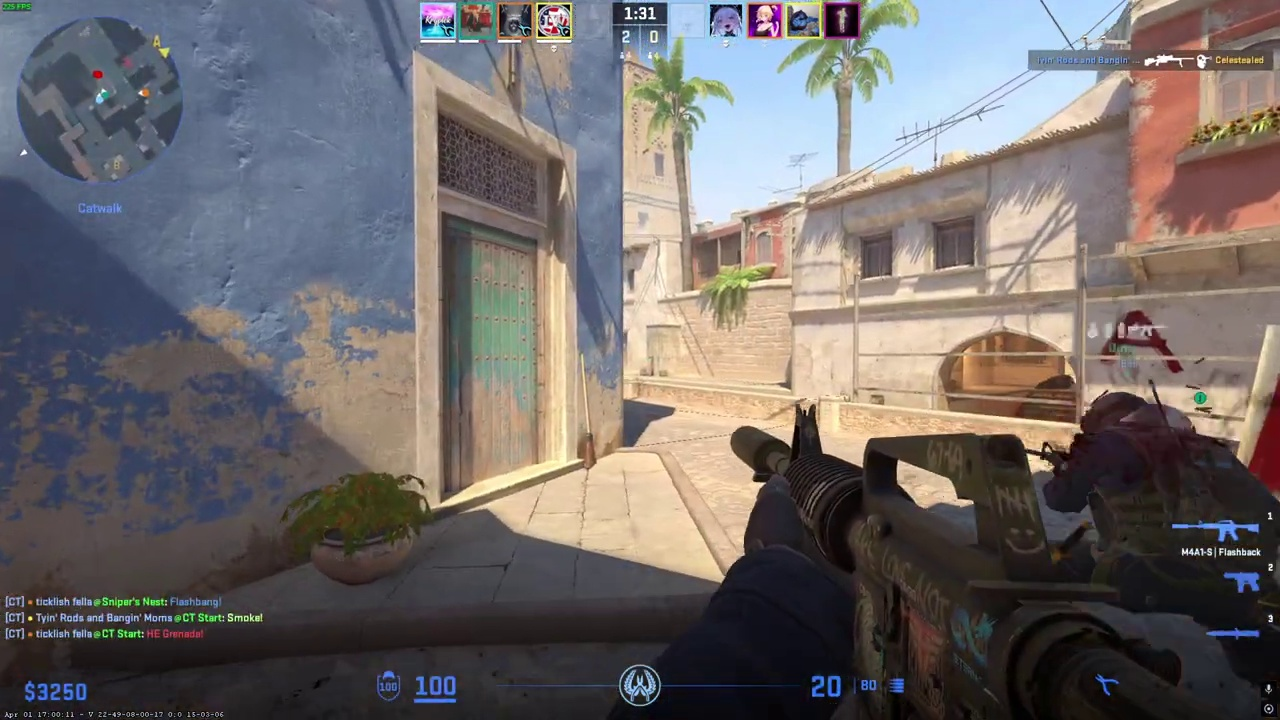CT: (1063, 391, 1277, 689)
